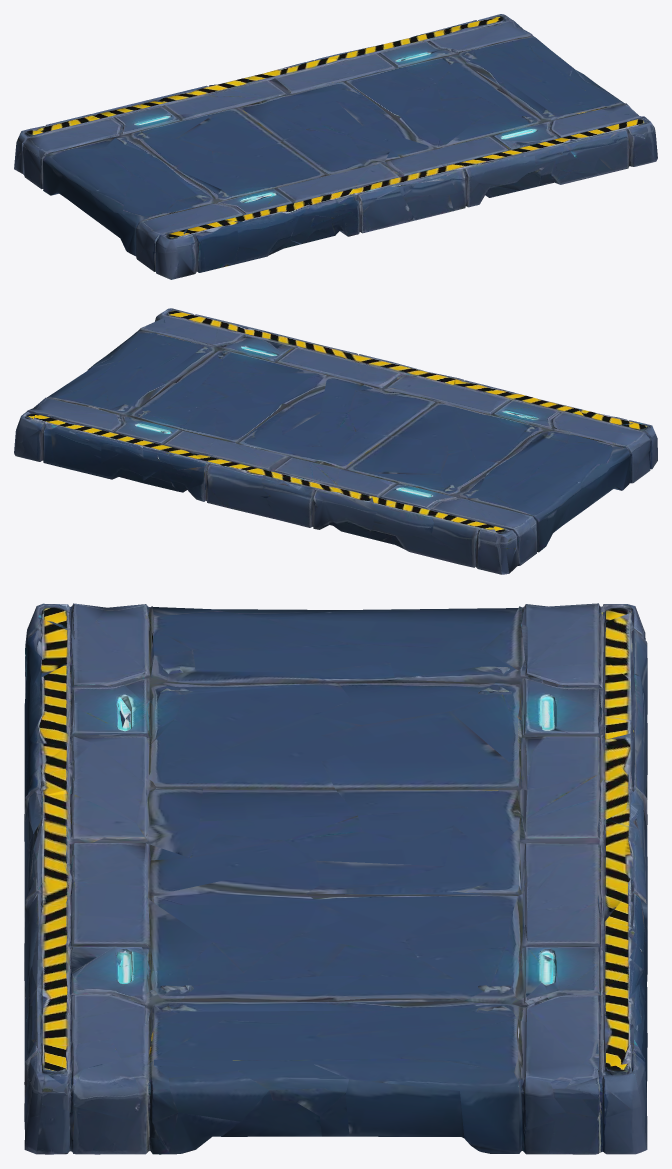
File: runner-deck-ai.glb
The picture shows the model from 3 angles, top to bottom: view 1: azimuth 30°, elevation 25°; view 2: azimuth 150°, elevation 25°; view 3: azimuth 270°, elevation 25°; orthographic projection. The views are drawn at different scales.
Size of the model in its own units: 1.9 by 0.1384 by 1.04.
1 material, 1 textured.
